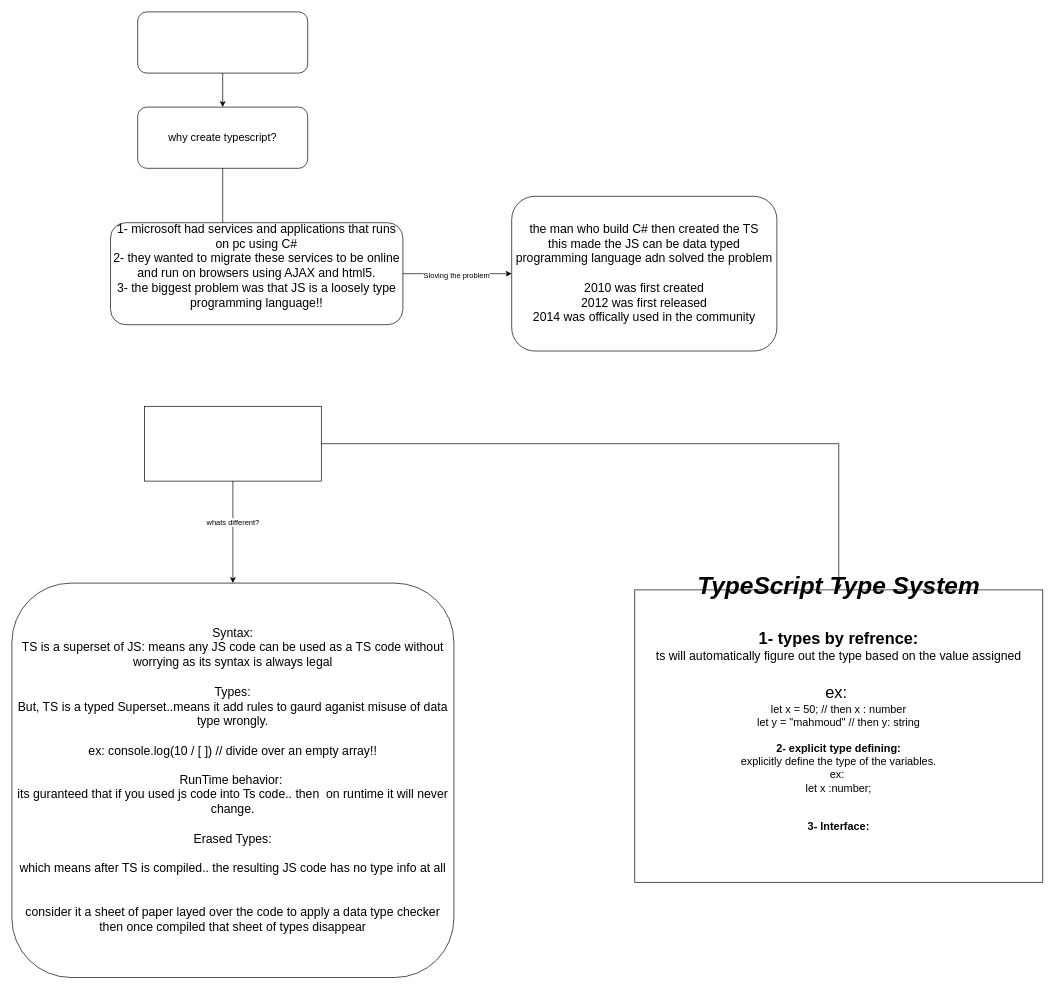
This 1055x989 diagram has some shape labels left out. Each missing label, with the box of its shape:
TypeScript and JavaScript: (144, 406, 321, 481)
Week02: (137, 11, 308, 73)
